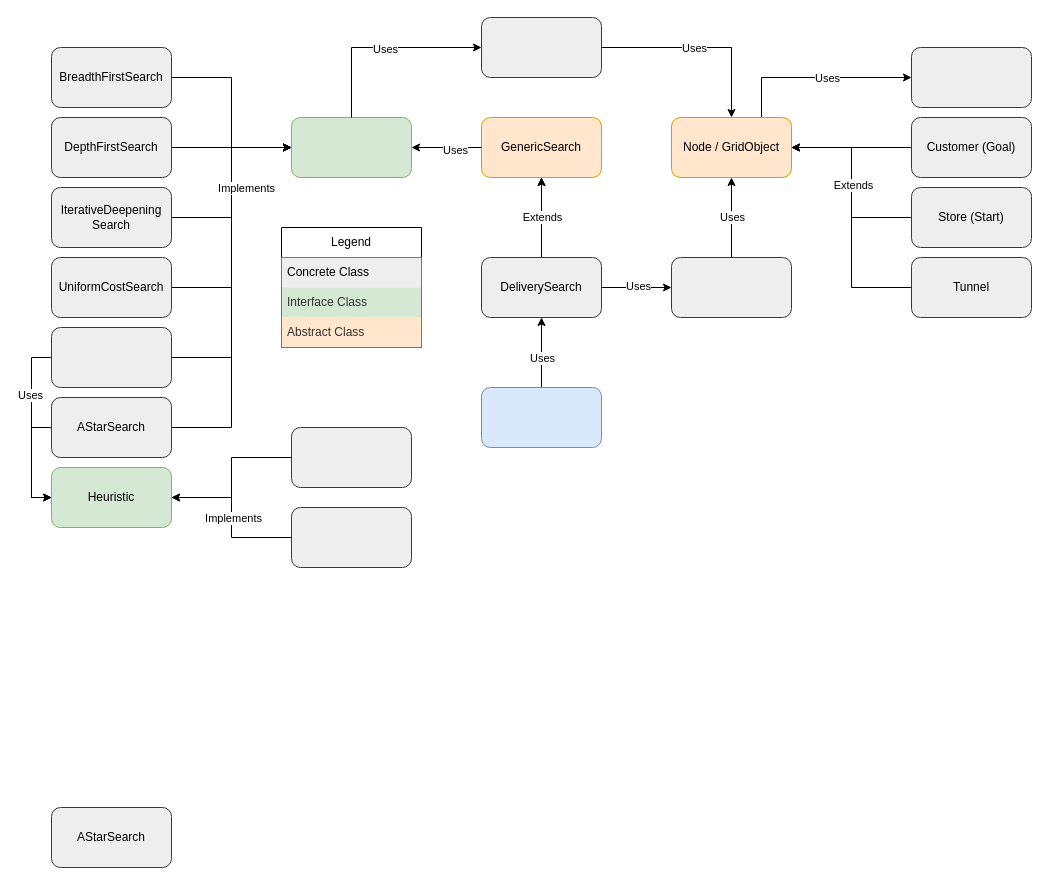
This 1049x885 diagram has some shape labels left out. The shapes that lost their labels are listed below. From the top down, each one's centre as x and y in pixels, then its label:
At point (541, 47): "SearchNode".
At point (971, 77): "Segment".
At point (351, 147): "Strategy".
At point (731, 287): "Grid".
At point (111, 357): "GreedySearch".
At point (541, 417): "DeliveryPlanner".
At point (351, 457): "ManhattanHeuristic".
At point (351, 537): "EulerHeuristic".
